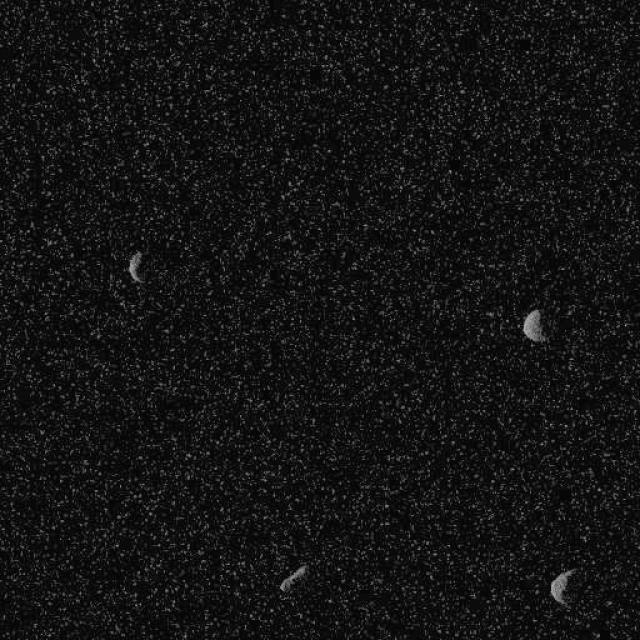D2: (548, 568, 578, 606), (522, 307, 548, 343), (279, 564, 309, 592), (126, 248, 146, 284)
